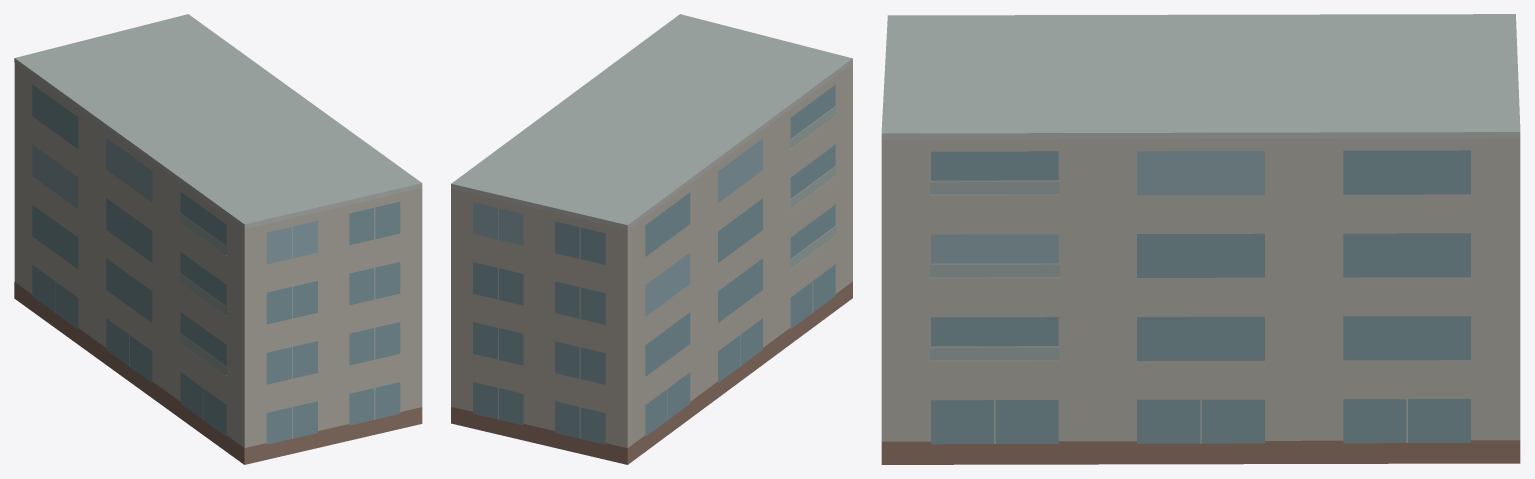
Rendered from survey-upis-32633611.glb.
3 views of the same model, side by side, from view 1: azimuth 30°, elevation 25°; view 2: azimuth 150°, elevation 25°; view 3: azimuth 270°, elevation 25° (orthographic). The views are drawn at different scales.
Parts seen in each view (by area): view 1: survey-upis-32633611.tmp; view 2: survey-upis-32633611.tmp; view 3: survey-upis-32633611.tmp.
Boxes of the visible parts, x1=… form: survey-upis-32633611.tmp: x1=14, y1=14, x2=422, y2=464; survey-upis-32633611.tmp: x1=451, y1=14, x2=852, y2=464; survey-upis-32633611.tmp: x1=881, y1=14, x2=1520, y2=464.
Size of the model in its own units: 9.77 by 12.6 by 22.03.
